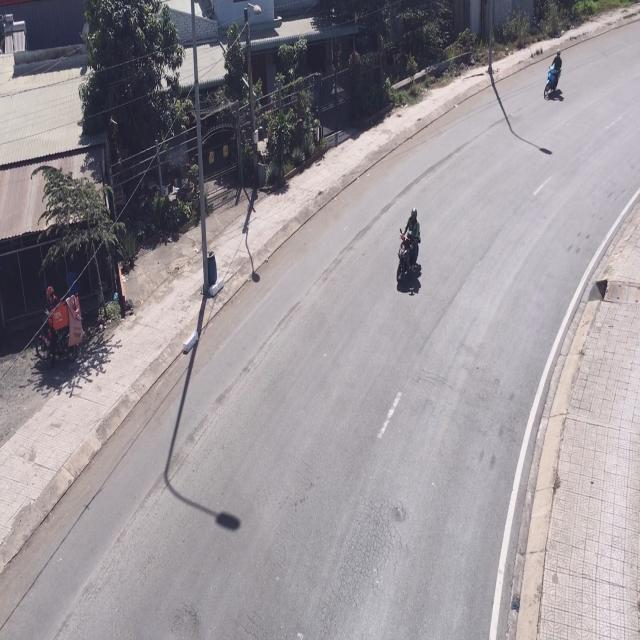motorbike: (398, 207, 424, 290), (542, 52, 563, 104)
